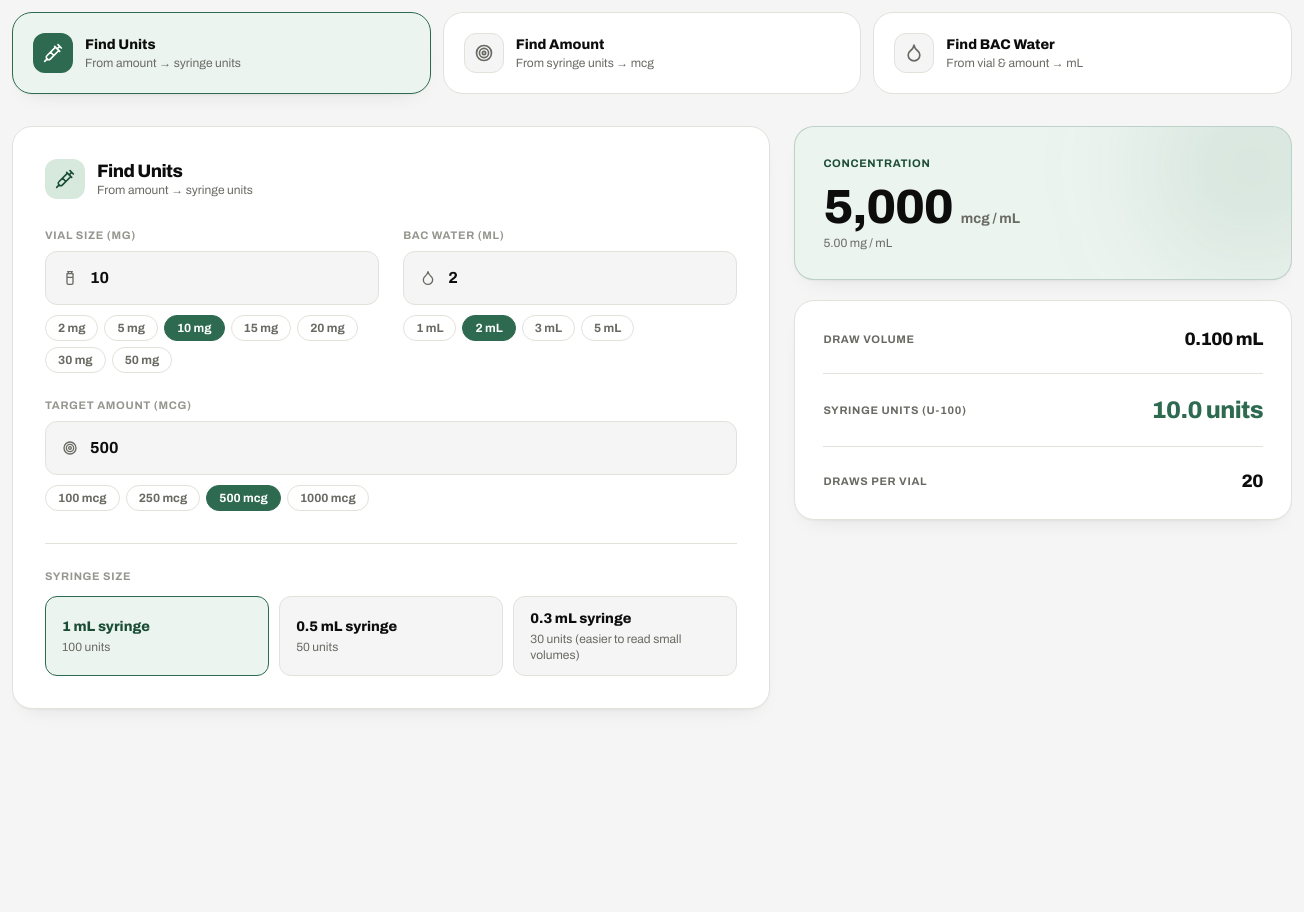
ReconstitutionCalculator › shows dashes instead of numbers while a required field is empty
Clear the number field labelled "BAC water (mL)" at (584, 278), box top-left (448, 266), bottom-right (720, 290)
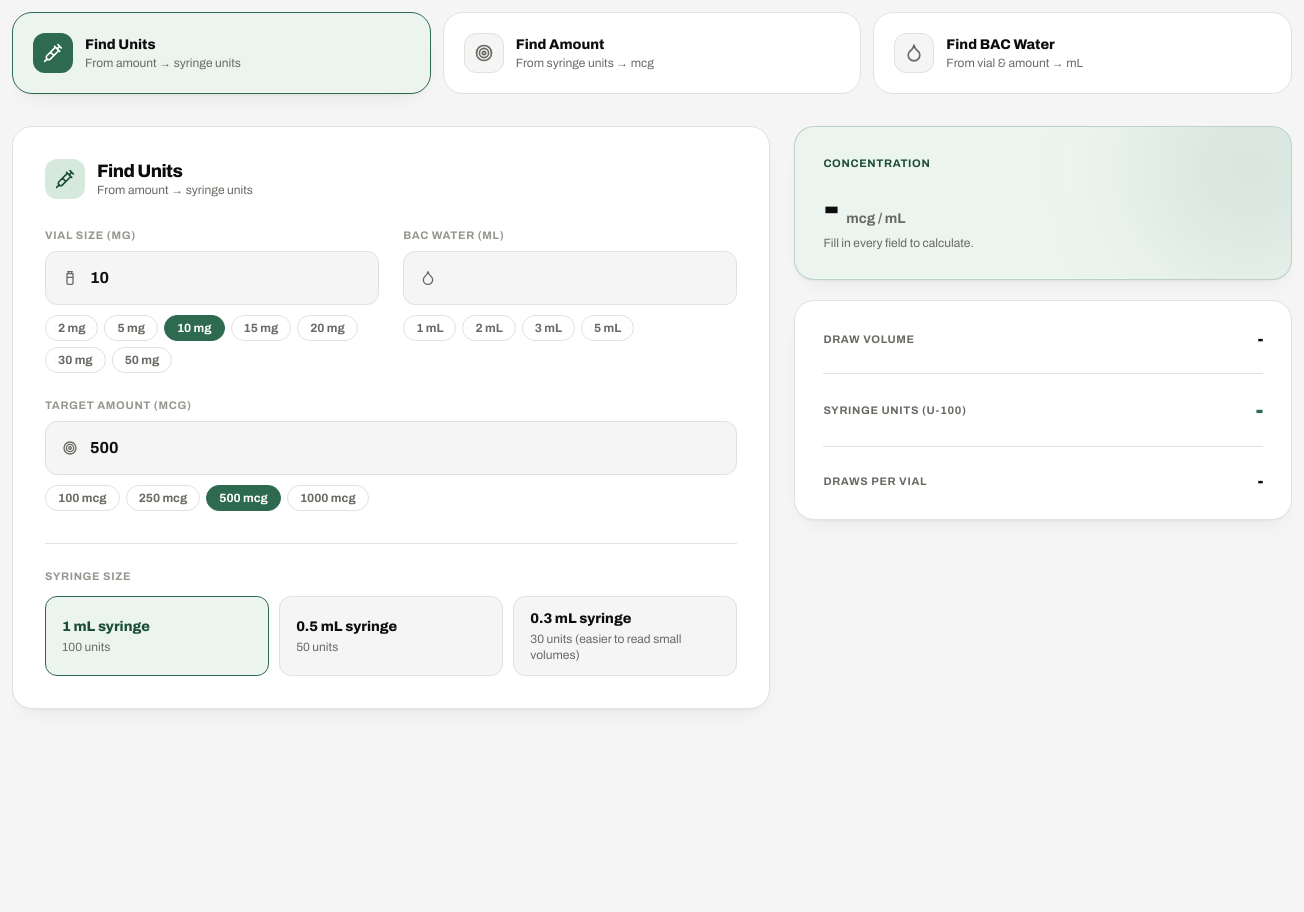
Check: the text "Fill in every field to calculate." is shown, box top-left (823, 236), bottom-right (974, 250)
Check: the text "10.0 units" is gone
